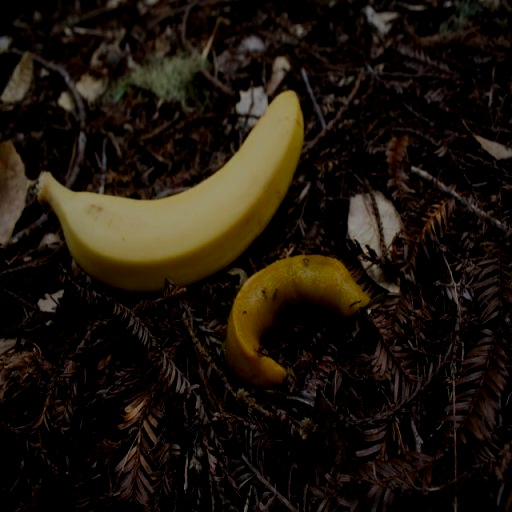fruit: (38, 91, 303, 292), (224, 255, 369, 398)
